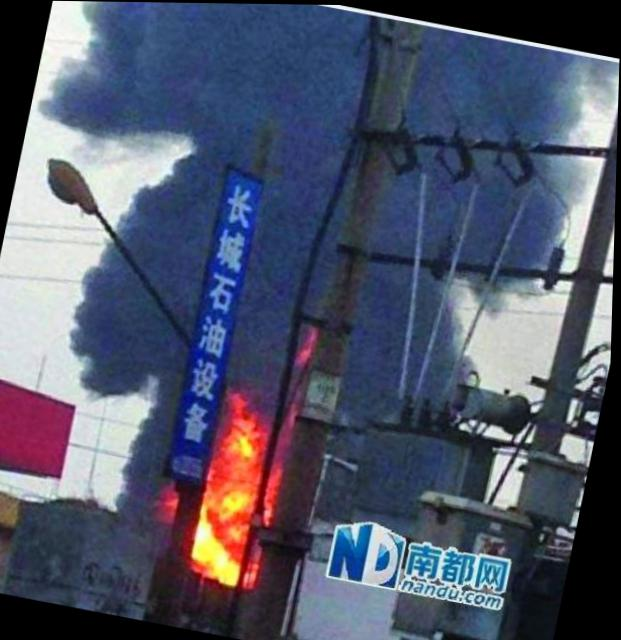fire: (188, 384, 279, 585)
